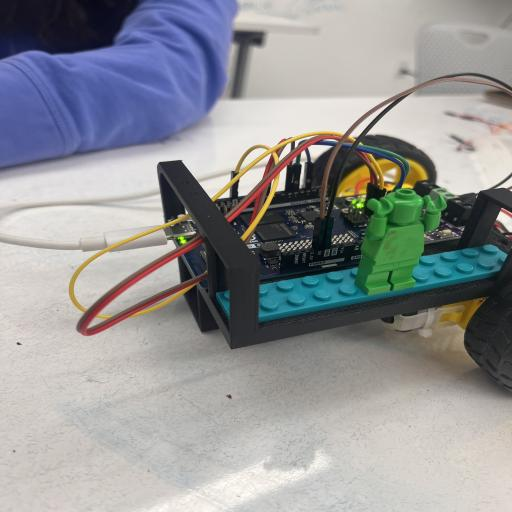Lego-Minifig: (355, 189, 446, 295)
